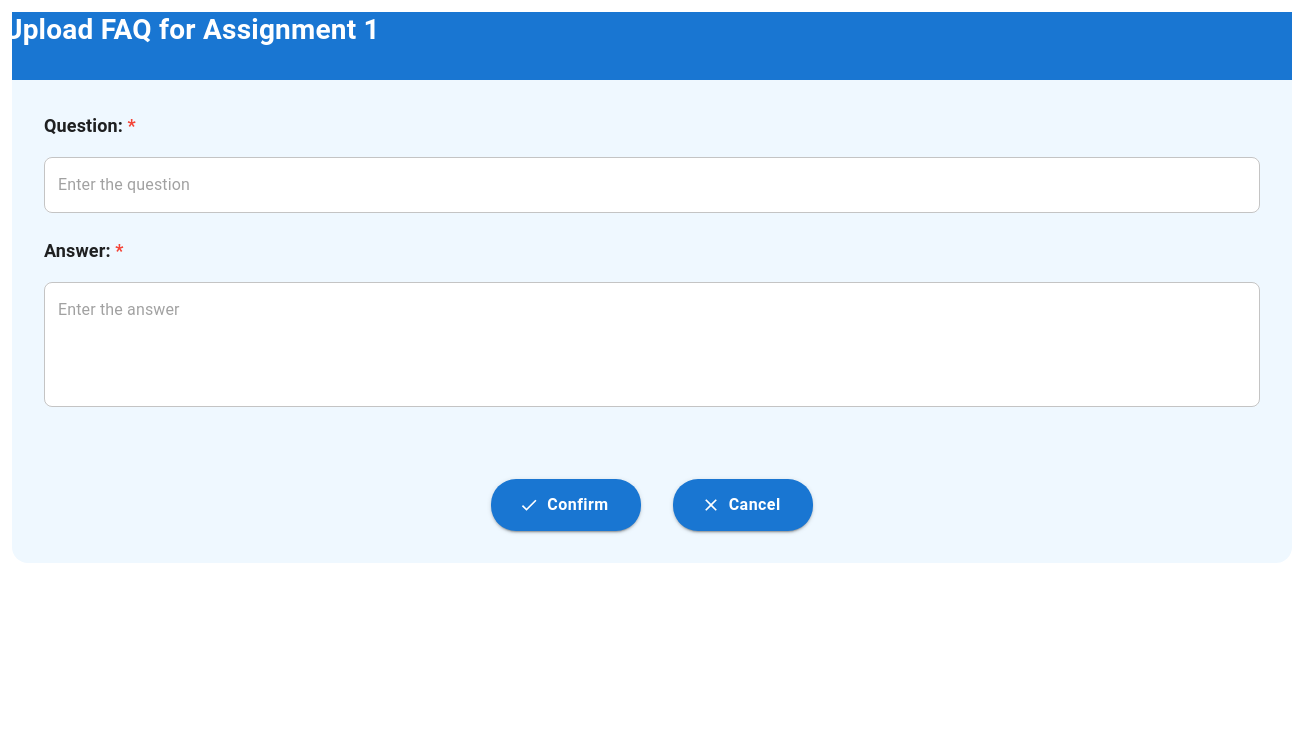
Test case: FaqUpload Component › should display validation errors for empty required fields on submit
Submit the empty form
What coordinates should you click on to do the following:
click the button "Confirm"
I would click on:
 (566, 505)
Its box is [491,479,641,531].
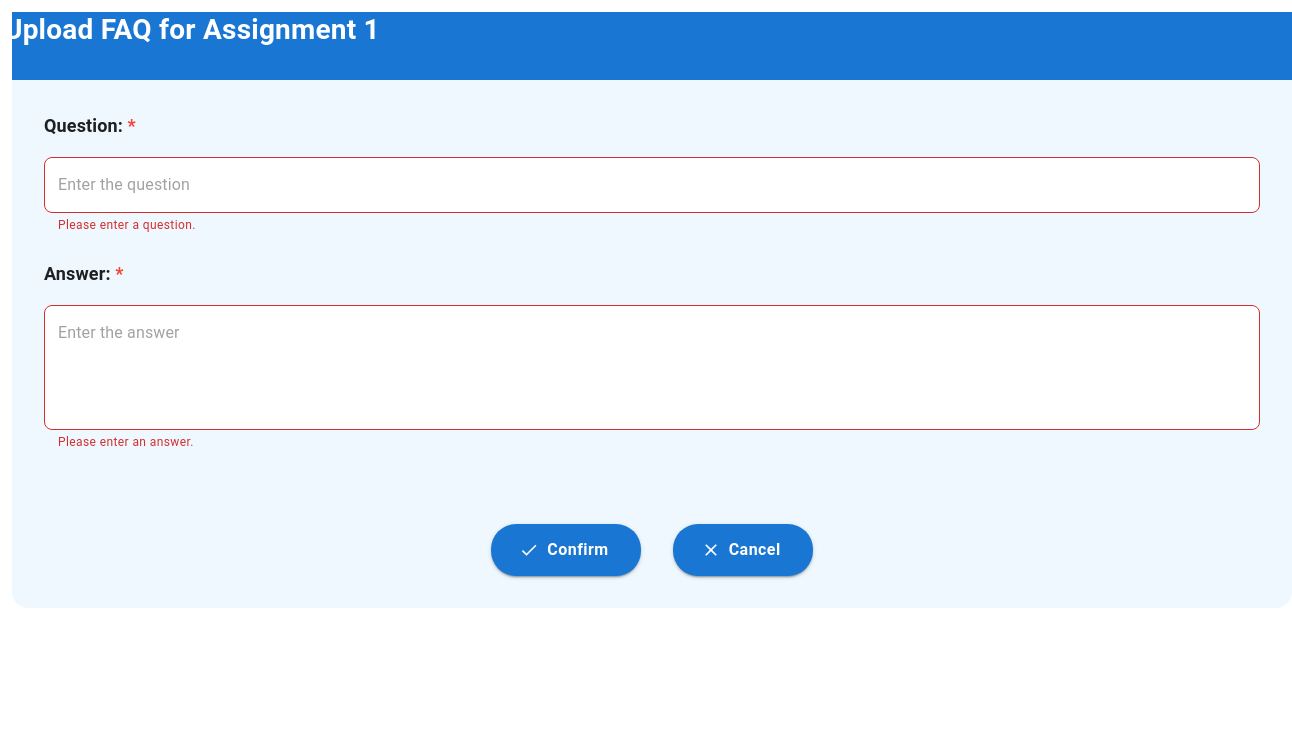
Expected: the text "Please enter a question." is shown, [58,218,196,232]
Expected: the text "Please enter an answer." is shown, [58,434,194,448]
